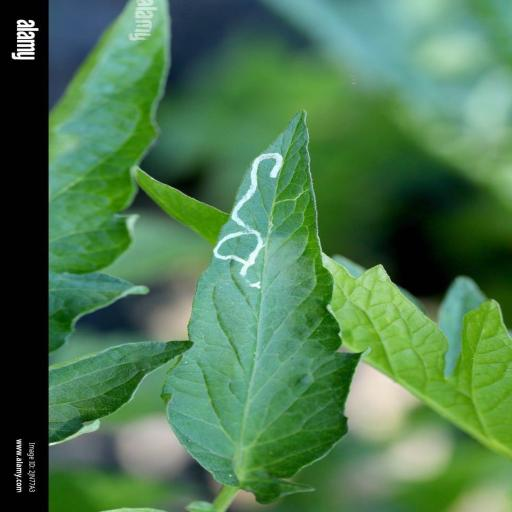Leaf Miner: (160, 111, 364, 502)
